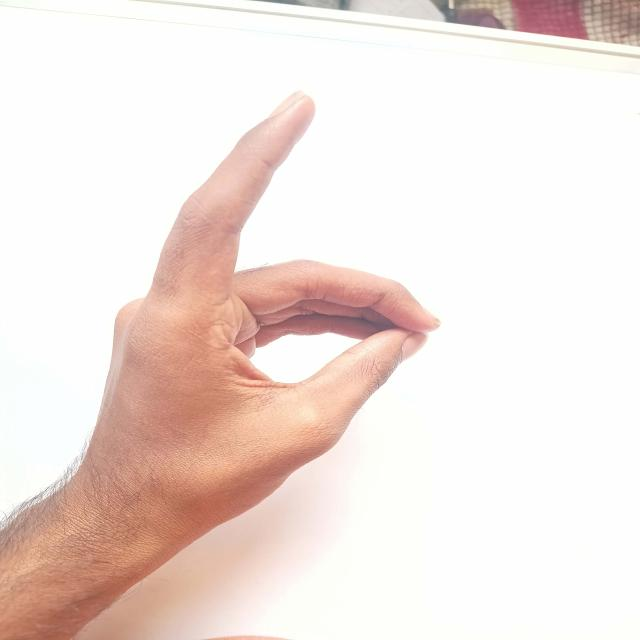Thank You: (93, 63, 481, 581)
